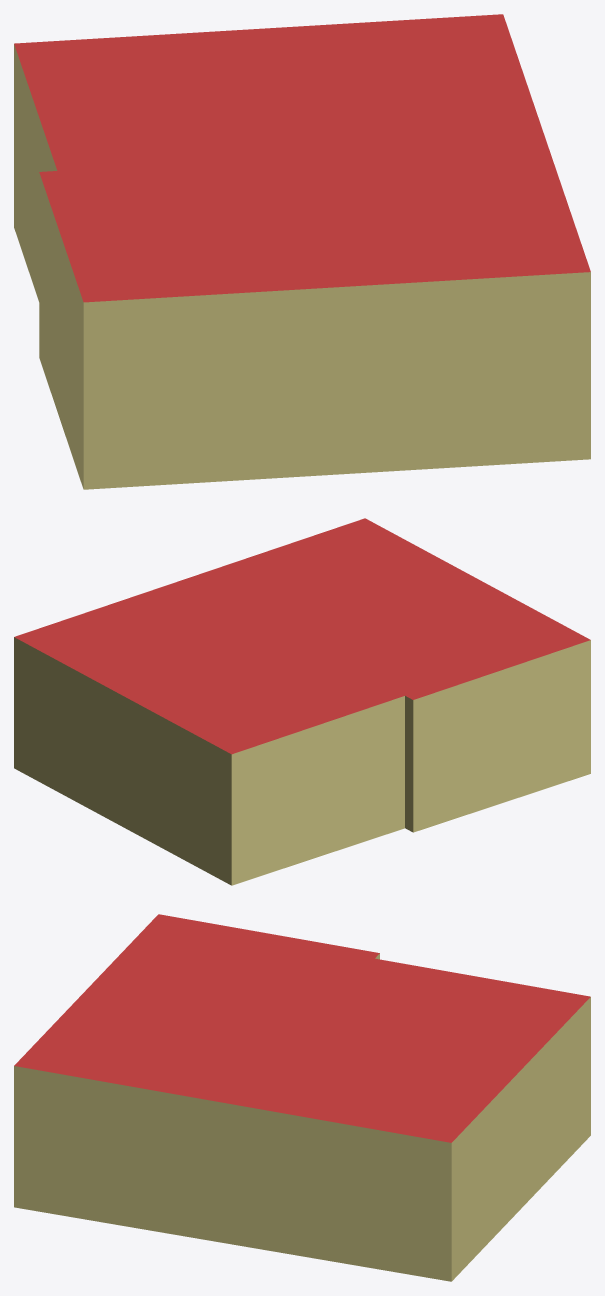
3 views of the same model, one above another, from view 1: azimuth 30°, elevation 25°; view 2: azimuth 150°, elevation 25°; view 3: azimuth 270°, elevation 25° (orthographic). The views are drawn at different scales.
Size of the model in its own units: 20.55 by 22.15 by 5.99.
